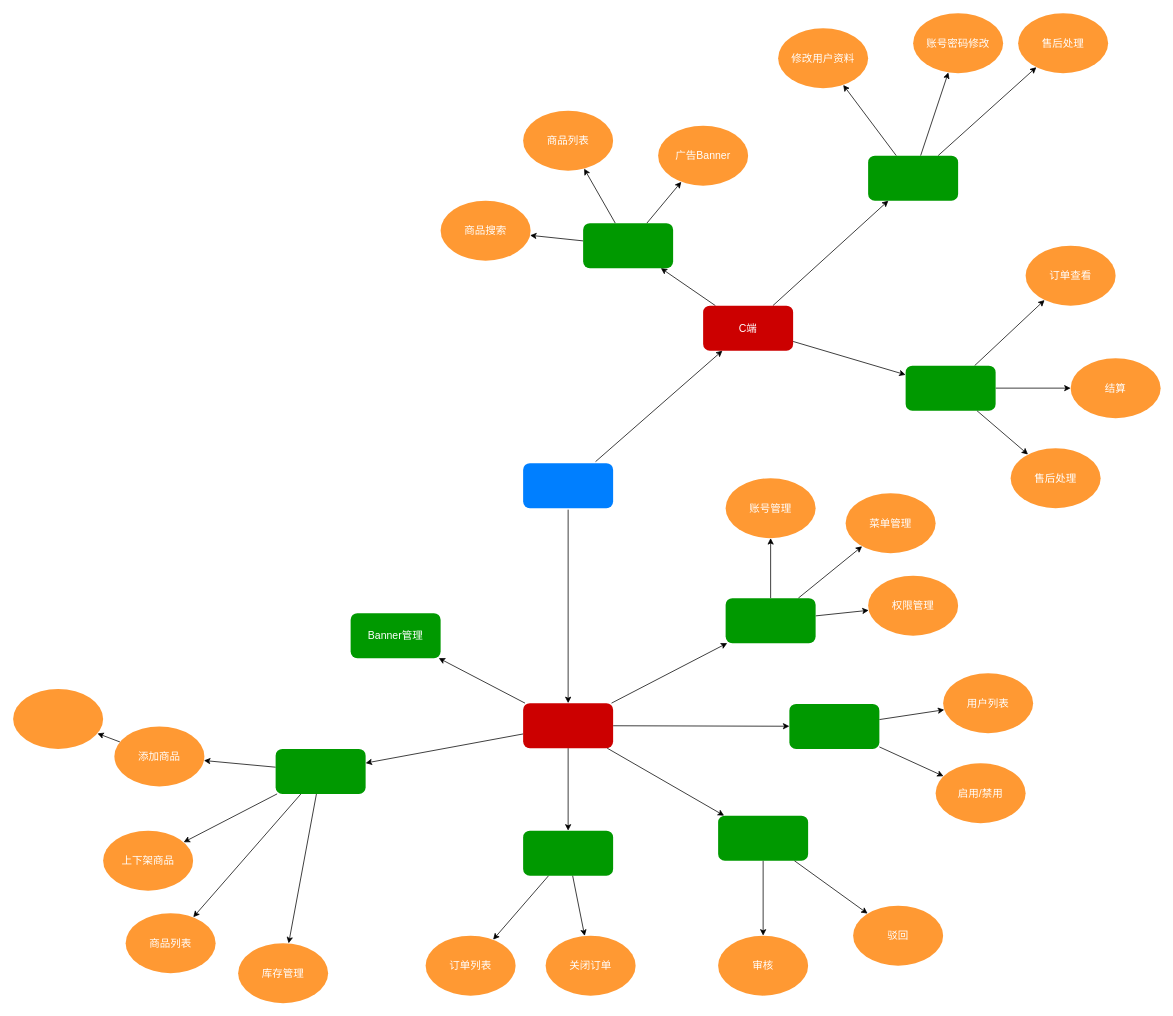
The diagram is 1173 pixels wide and 1016 high, and some of its shapes have lost their labels. Here are the shapes that lost their labels. From the top down, the box of each, then its label:
(868, 155, 958, 200): 用户中心
(583, 223, 673, 268): 首页
(905, 365, 995, 410): 订单中心
(523, 463, 613, 508): 商城
(725, 598, 815, 643): 后台权限管理
(13, 688, 103, 748): 多渠道添加
(523, 703, 613, 748): 管理端
(789, 704, 879, 748): 用户管理
(275, 748, 365, 794): 商品管理
(523, 830, 613, 875): 订单管理
(718, 815, 808, 860): 售后管理
